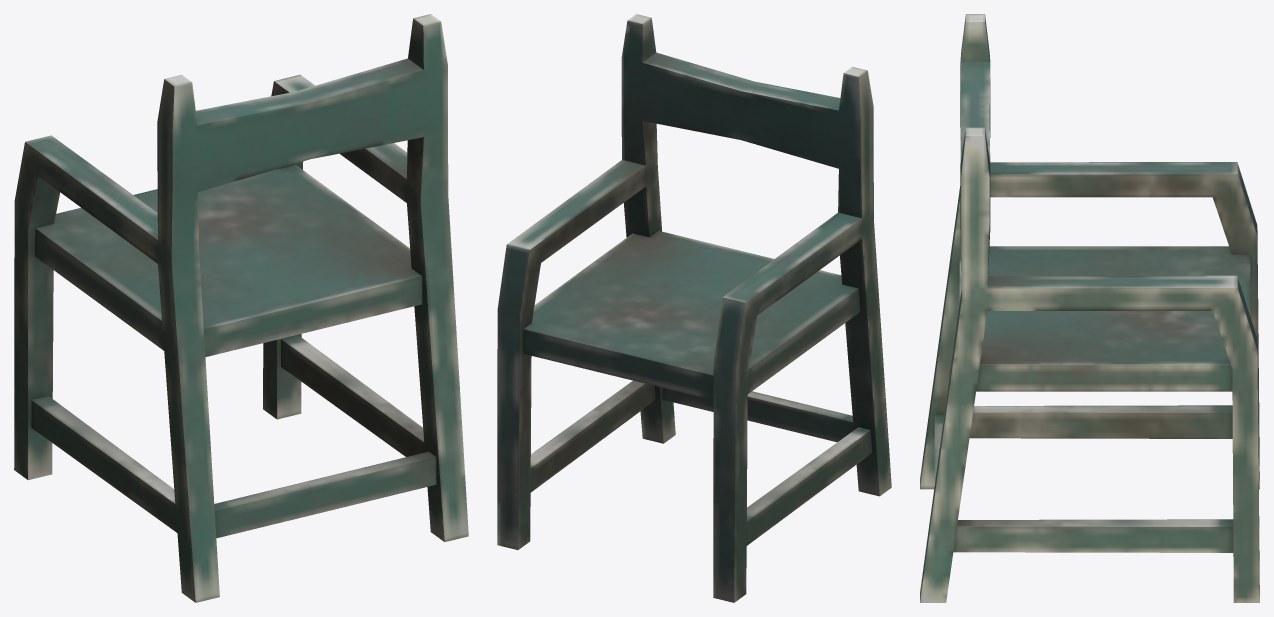
Rendered from Chair.fbx.
3 renders of one model, left to right at view 1: azimuth 30°, elevation 25°; view 2: azimuth 150°, elevation 25°; view 3: azimuth 270°, elevation 25°, orthographic. The views are drawn at different scales.
Parts seen in each view (by area): view 1: Chair; view 2: Chair; view 3: Chair.
Part boxes in pixels (<box>): Chair: <box>14,14,468,602</box>; Chair: <box>497,14,891,602</box>; Chair: <box>920,14,1259,602</box>.
Bounding box in the file's own units: 23.29 × 40.04 × 26.48.
